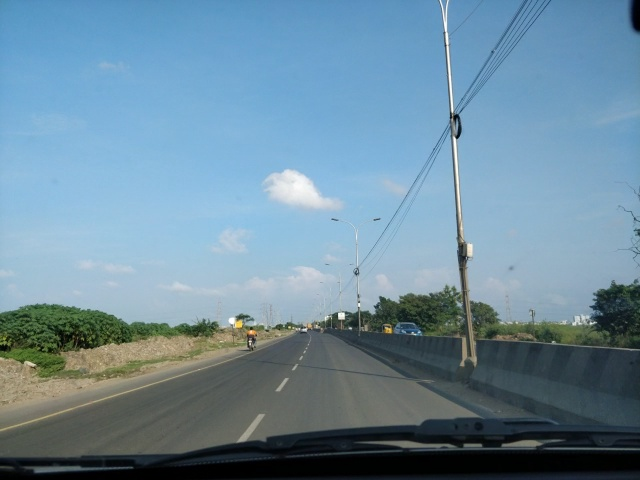auto: (378, 317, 393, 343), (380, 322, 396, 335)
car: (397, 314, 427, 344), (395, 322, 424, 335), (297, 324, 311, 335)
motorbike: (243, 325, 261, 352)
